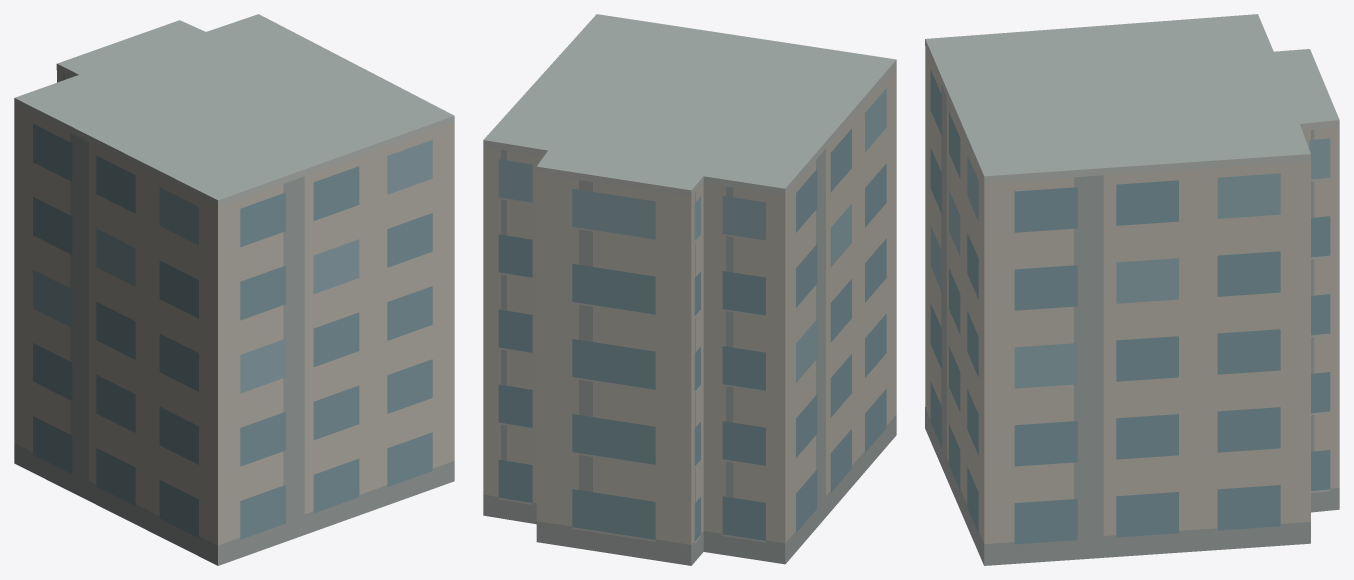
Rendered from survey-upis-32941953.glb.
The picture shows the model from 3 angles, left to right: view 1: azimuth 30°, elevation 25°; view 2: azimuth 150°, elevation 25°; view 3: azimuth 270°, elevation 25°; orthographic projection. The views are drawn at different scales.
Parts seen in each view (by area): view 1: survey-upis-32941953.tmp; view 2: survey-upis-32941953.tmp; view 3: survey-upis-32941953.tmp.
Part boxes in pixels (box(x1,y1,x2,y2)): survey-upis-32941953.tmp: box(14, 14, 454, 565); survey-upis-32941953.tmp: box(483, 14, 896, 565); survey-upis-32941953.tmp: box(925, 14, 1339, 565).
Size of the model in its own units: 11.94 by 13.35 by 12.88.
